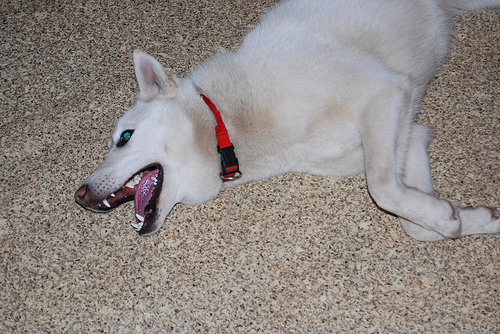dog: (75, 0, 499, 243)
